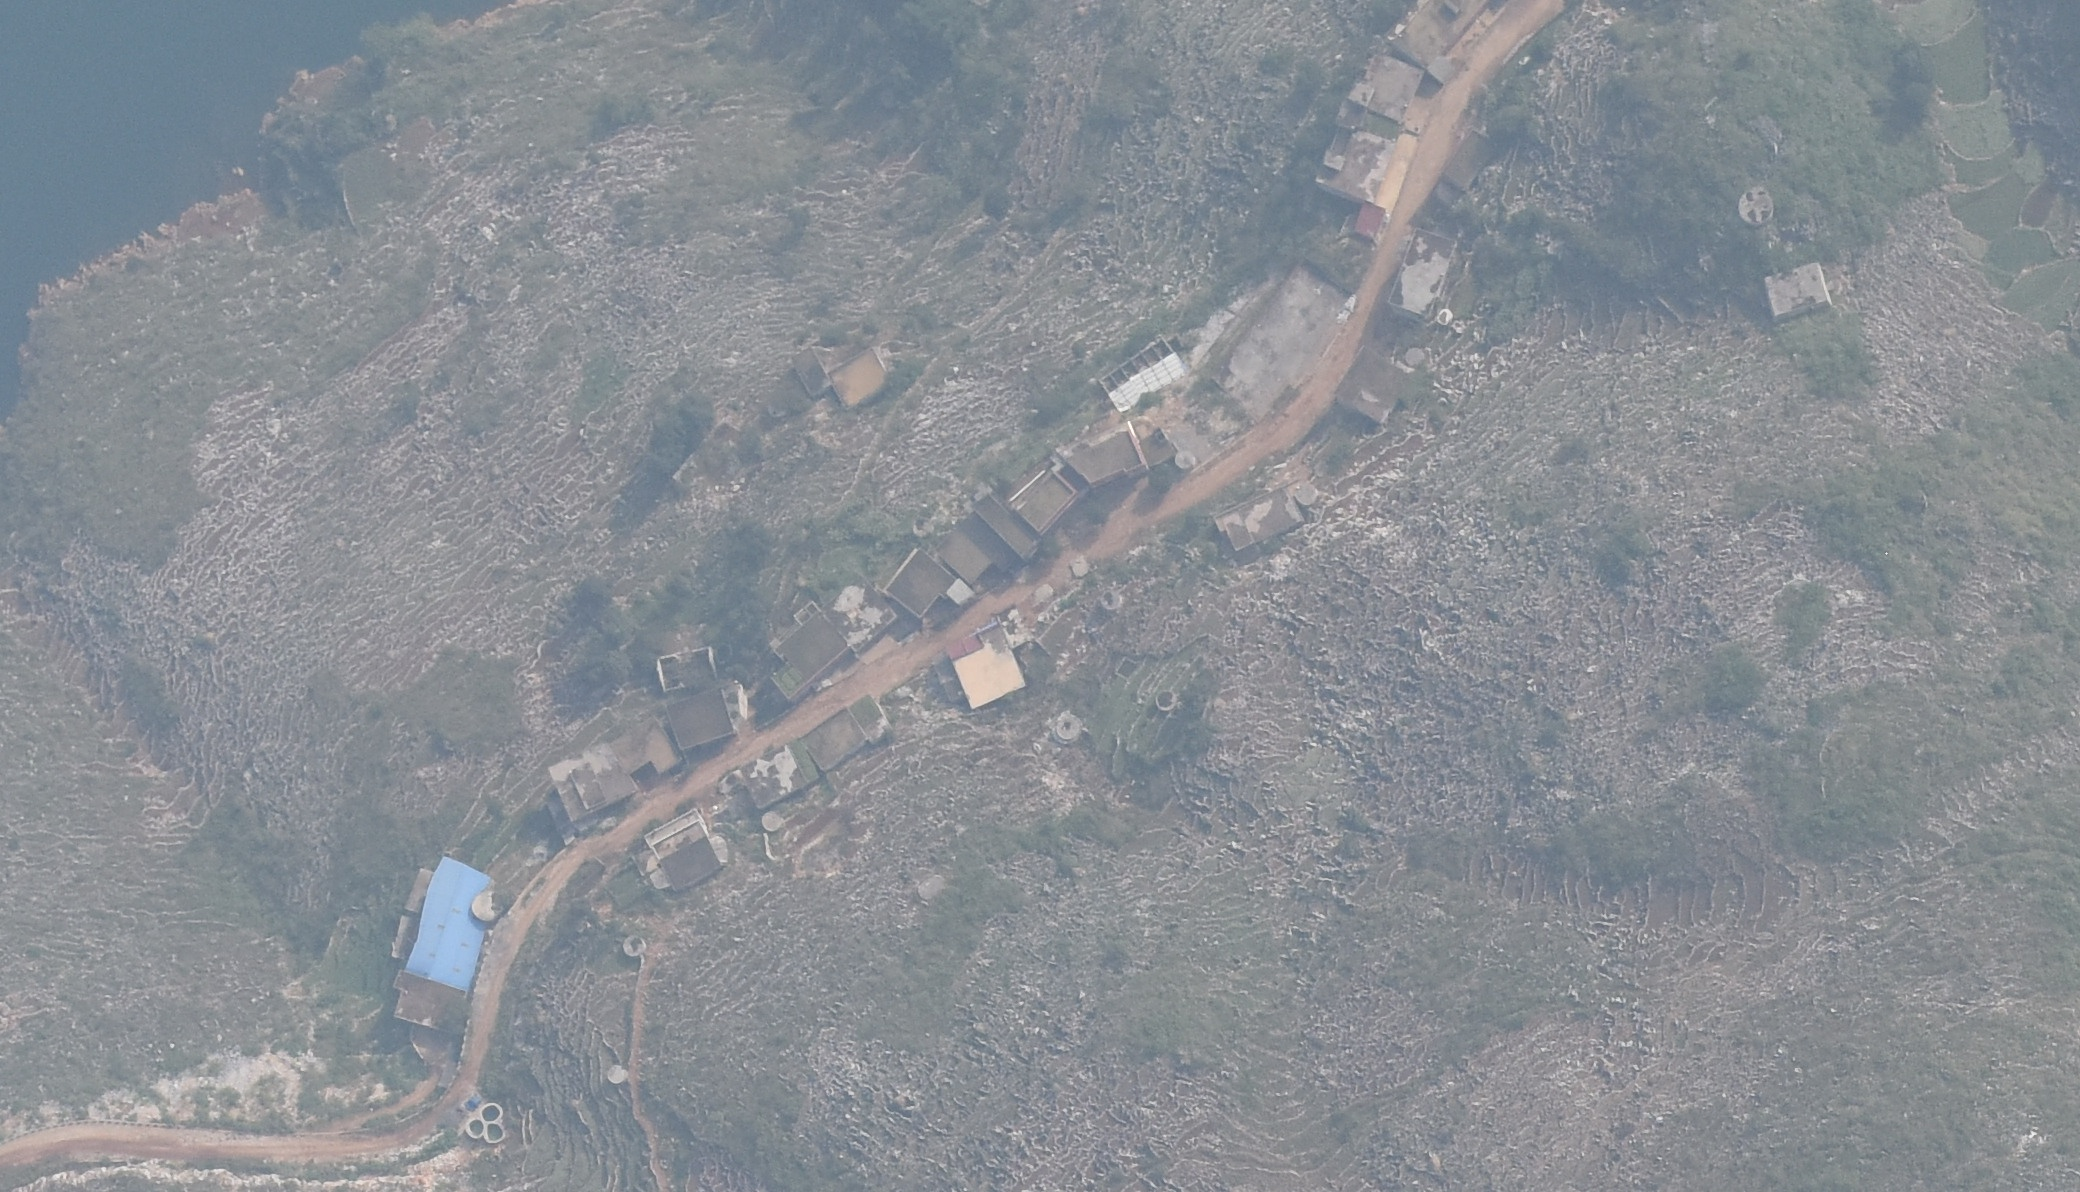building: (1210, 253, 1359, 422), (1311, 54, 1431, 207), (933, 623, 1041, 707), (767, 609, 861, 702), (540, 745, 639, 830), (1387, 219, 1461, 319), (1103, 334, 1196, 414), (641, 805, 721, 895), (873, 545, 971, 617), (1334, 343, 1419, 424), (1209, 487, 1304, 555), (731, 743, 820, 808), (391, 968, 473, 1033), (661, 689, 741, 755), (1434, 113, 1491, 204), (820, 577, 894, 647), (829, 343, 900, 410), (1011, 467, 1079, 539), (974, 492, 1041, 562), (1070, 429, 1151, 486), (1753, 263, 1839, 317), (801, 706, 869, 775), (611, 716, 681, 779), (940, 527, 989, 583), (850, 695, 894, 742), (790, 349, 833, 397)
prefabricated-house: (406, 855, 494, 989)
well: (1733, 182, 1779, 226), (470, 889, 506, 920), (1054, 715, 1081, 742), (1296, 482, 1321, 507), (621, 933, 649, 958), (1099, 587, 1126, 610), (483, 1122, 509, 1143), (479, 1101, 501, 1123), (1154, 687, 1177, 710), (1174, 452, 1197, 473), (1070, 556, 1091, 577), (1404, 344, 1426, 366), (760, 812, 783, 832), (607, 1063, 630, 1083), (469, 1119, 486, 1141), (1439, 306, 1454, 326)
